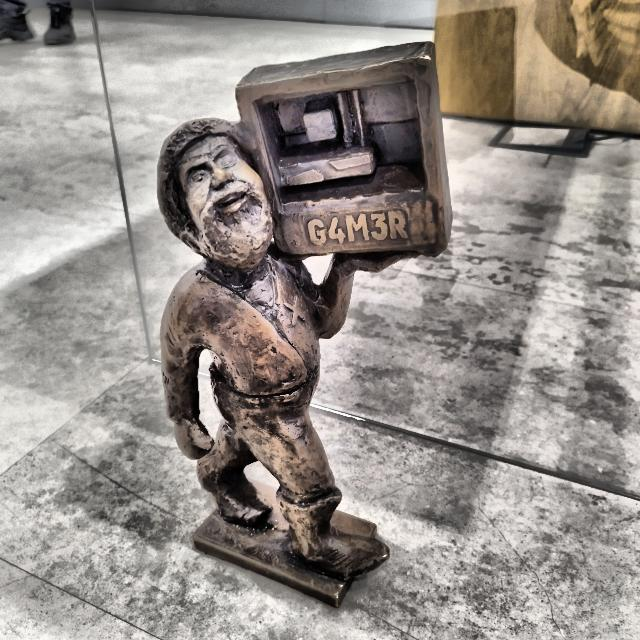GigaHercjusz: (158, 42, 451, 606)
